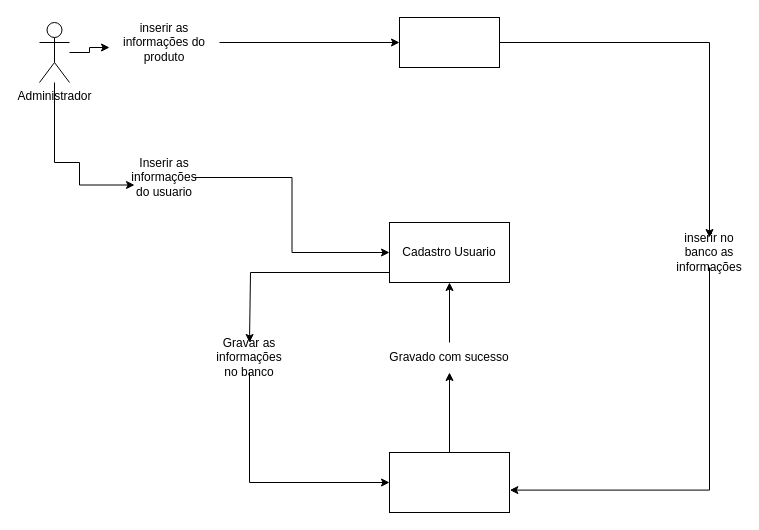
The diagram is 759 pixels wide and 530 high, and some of its shapes have lost their labels. Each missing label, with the box of its shape:
Base de dados: (388, 452, 510, 512)
Gestão de produto: (398, 16, 500, 68)
